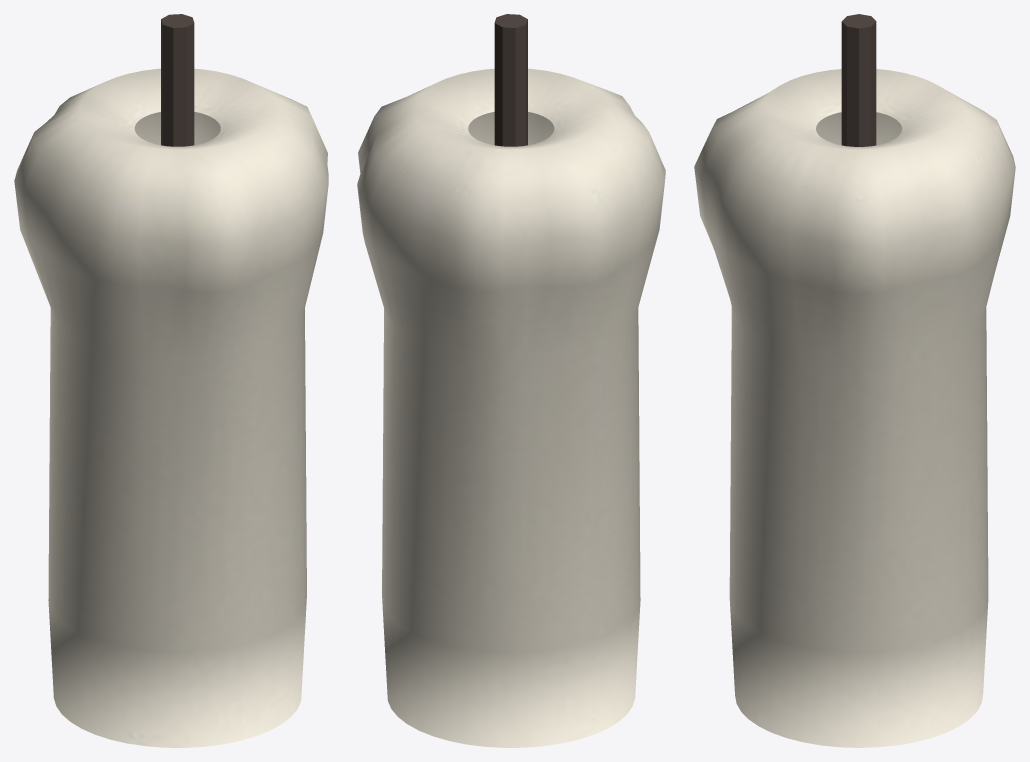
File: candle.glb
3 views of the same model, side by side, from view 1: azimuth 30°, elevation 25°; view 2: azimuth 150°, elevation 25°; view 3: azimuth 270°, elevation 25° (orthographic).
Parts seen in each view (by area): view 1: wax, wick; view 2: wax, wick; view 3: wax, wick.
Boxes of the visible parts, bbox=[...] form: wax: bbox=[14, 68, 328, 747]; wick: bbox=[161, 14, 194, 146]; wax: bbox=[357, 68, 665, 747]; wick: bbox=[494, 14, 527, 146]; wax: bbox=[694, 69, 1015, 747]; wick: bbox=[841, 14, 876, 146].
Bounding box in the file's own units: 0.0295 × 0.069 × 0.0298.
Materials: 2 (1 with a texture image).
